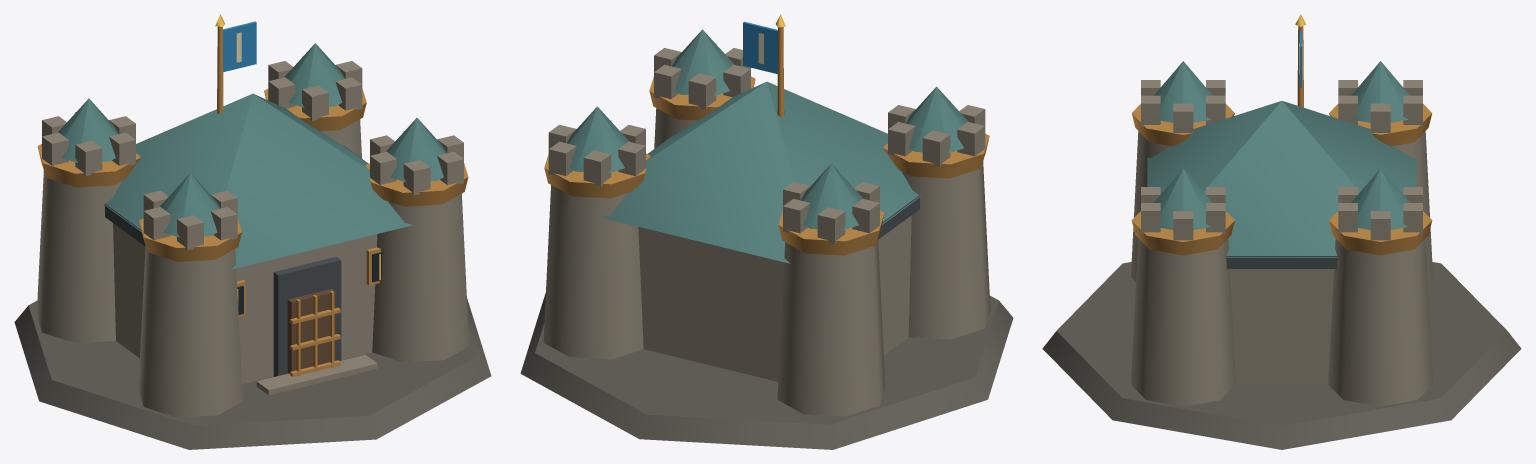
Rendered from keep_player.glb.
3 views of the same model, side by side, from view 1: azimuth 30°, elevation 25°; view 2: azimuth 150°, elevation 25°; view 3: azimuth 270°, elevation 25° (orthographic). The views are drawn at different scales.
Parts seen in each view (by area): view 1: Ember_Bastion; view 2: Ember_Bastion; view 3: Ember_Bastion.
Part boxes in pixels (left/top/right/bottom): Ember_Bastion: left=14, top=14, right=491, bottom=449; Ember_Bastion: left=520, top=14, right=1013, bottom=449; Ember_Bastion: left=1042, top=14, right=1521, bottom=449.
Size of the model in its own units: 10.2 by 7.61 by 10.2.
